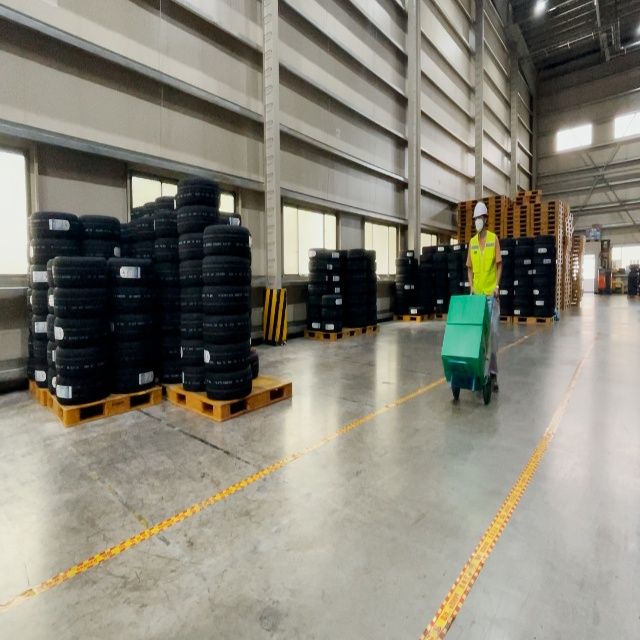Box: (441, 323, 487, 384), (446, 295, 491, 352)
Worker: (465, 200, 503, 393)
